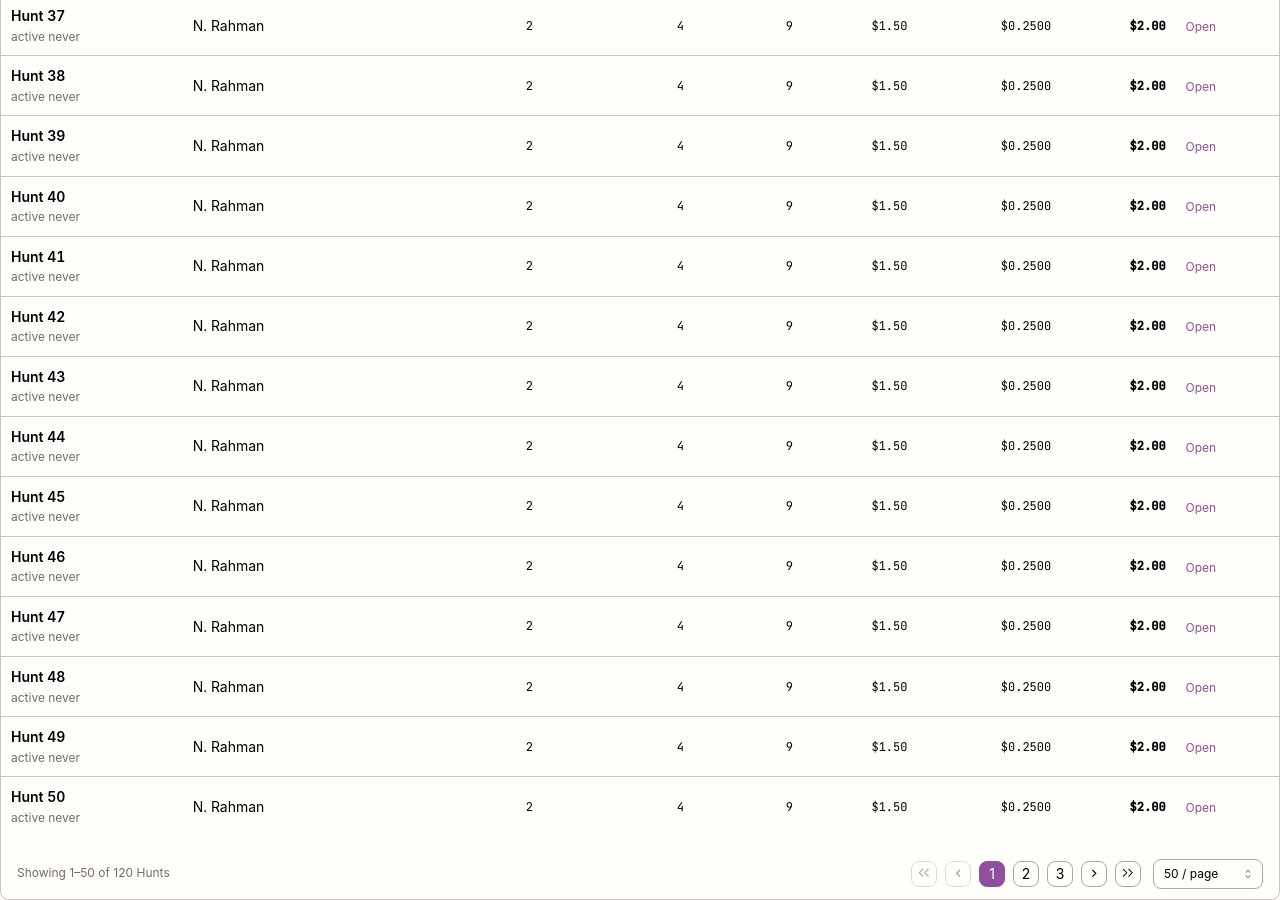
it: AdminHuntsPage › sends the search to the server and returns to page 1
(page scrolled)
Click the button "3" at (1060, 874), box [1047,861,1073,887]
(page scrolled)
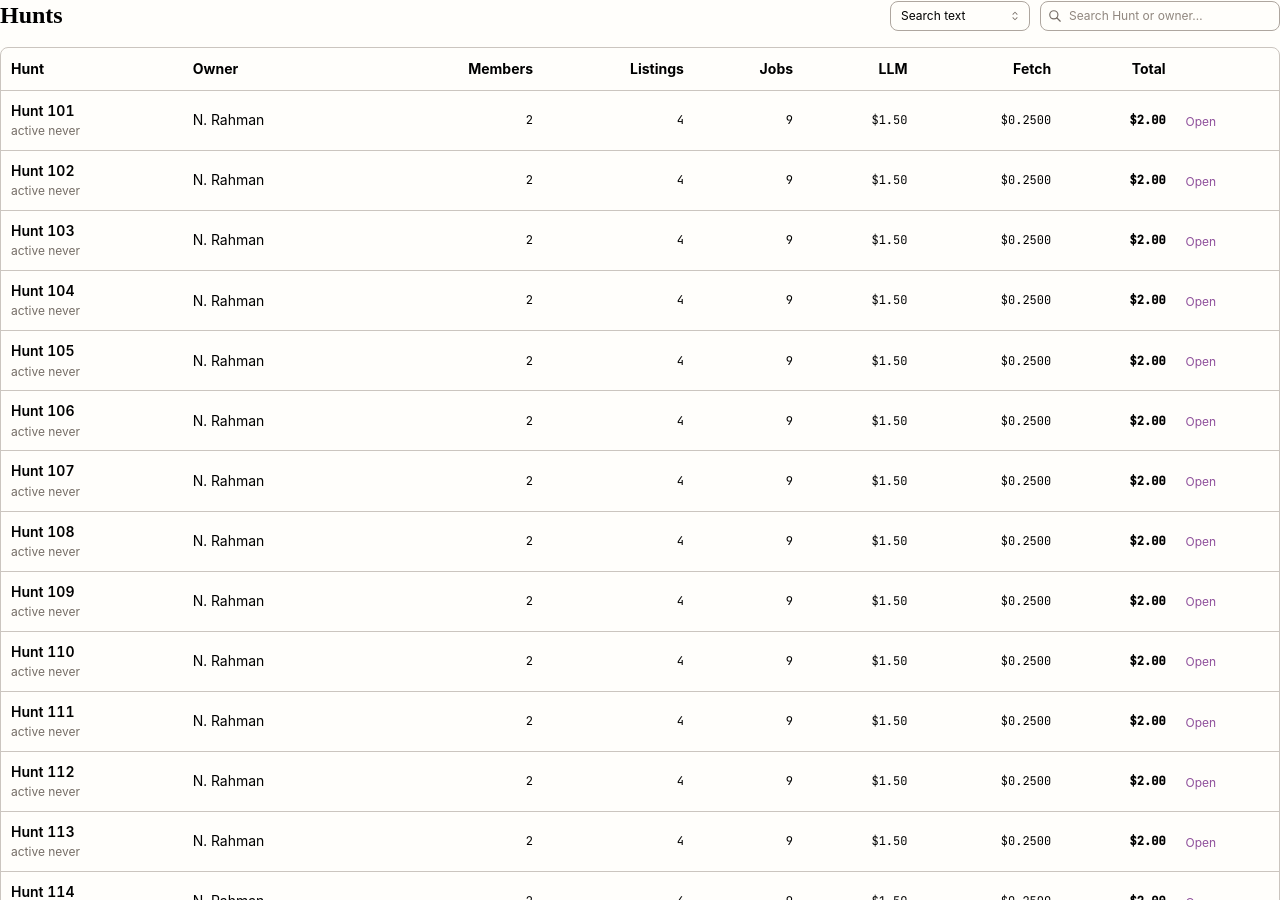
Check: the text "Hunt 101" is shown, box [11,102,74,119]
Type "Hunt 11" into the field with placeholder "Search Hunt or owner…" at (1160, 16), box [1040,1,1279,31]
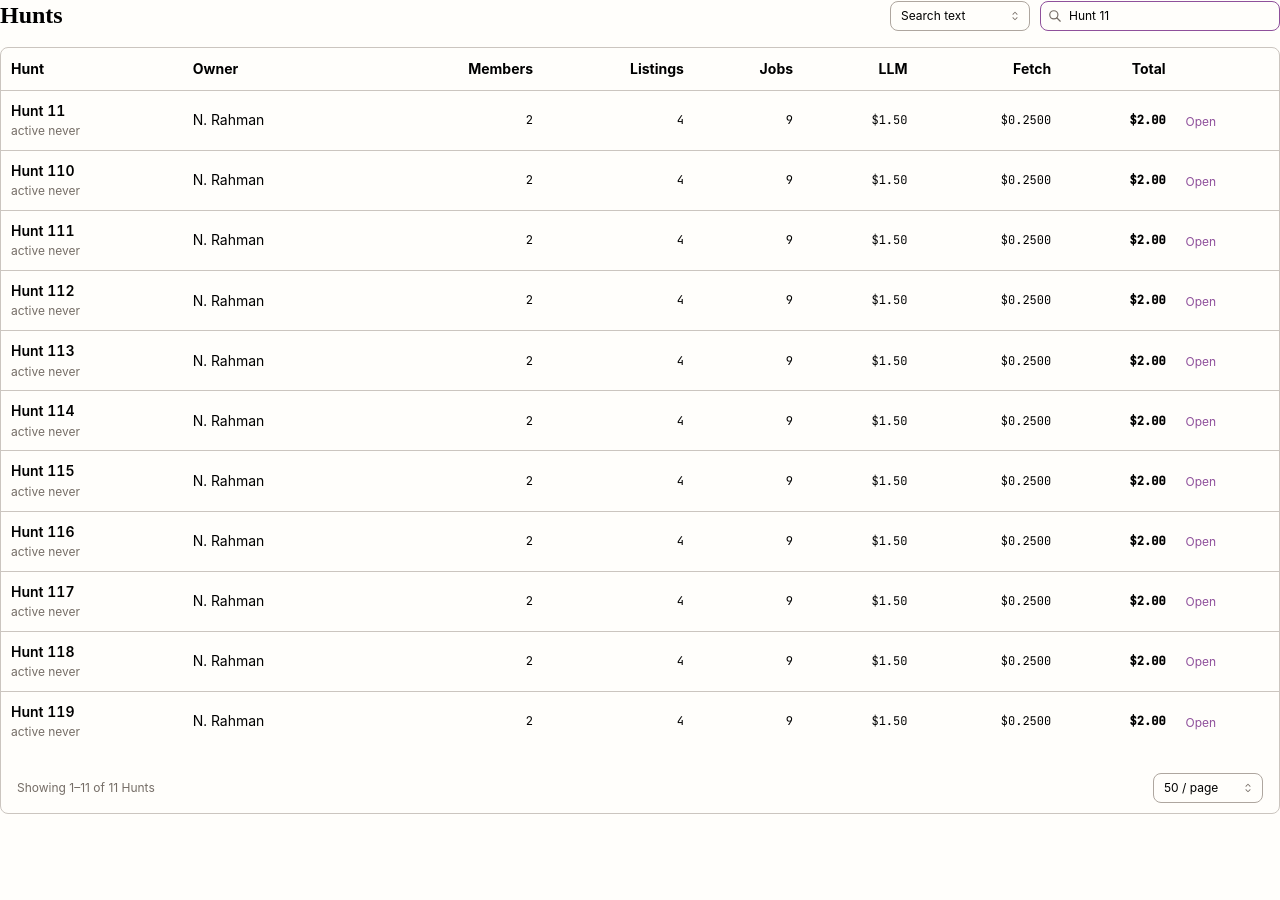
Check: the text "Hunt 11" is shown, box [11,102,65,119]
Check: the text "Showing 1–11 of 11 Hunts" is shown, box [17,780,155,796]
